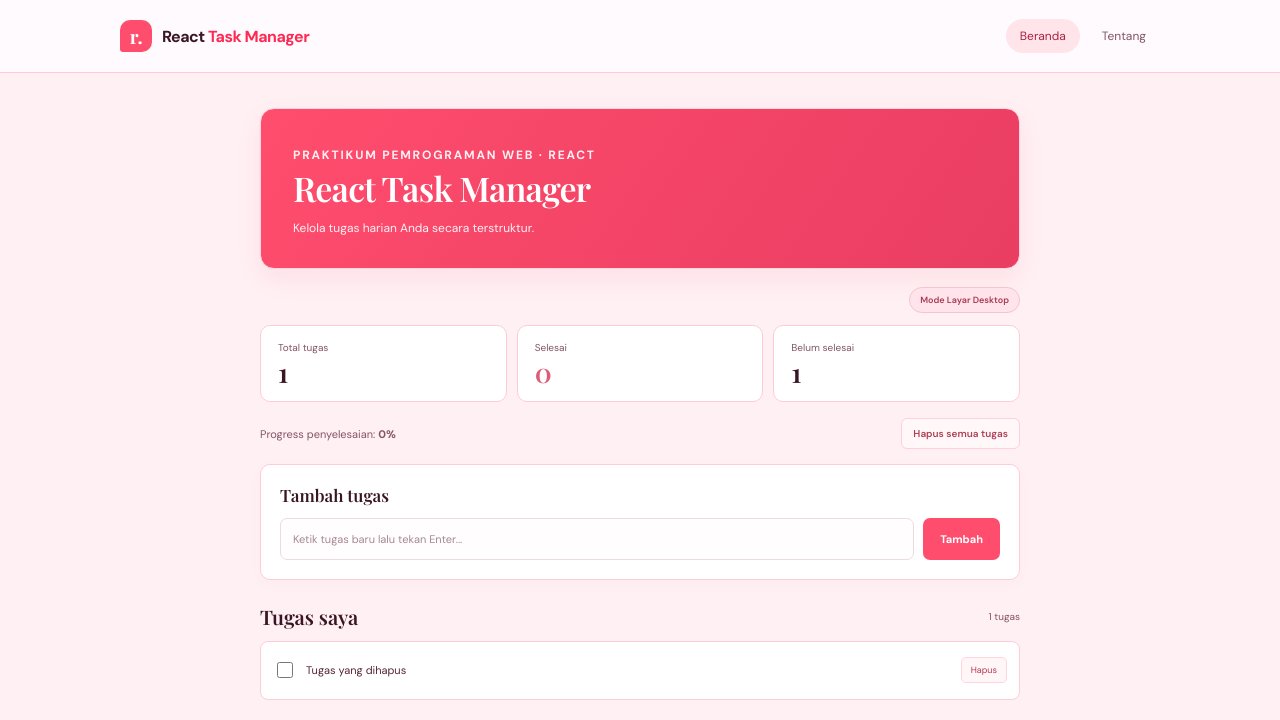
Test: React Task Manager module › deletes an individual task
Click the button "Hapus" at (984, 670), box top-left (961, 657), bottom-right (1007, 683)
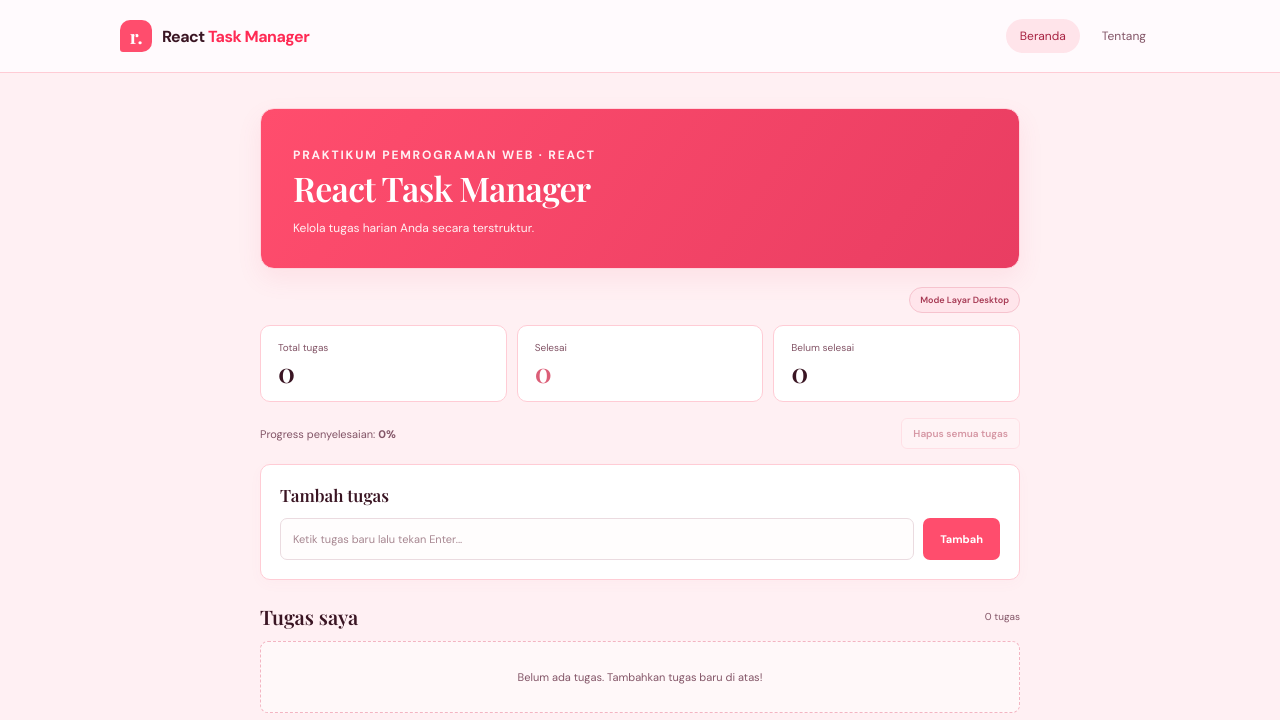
Expected: the text "Tugas yang dihapus" is gone
